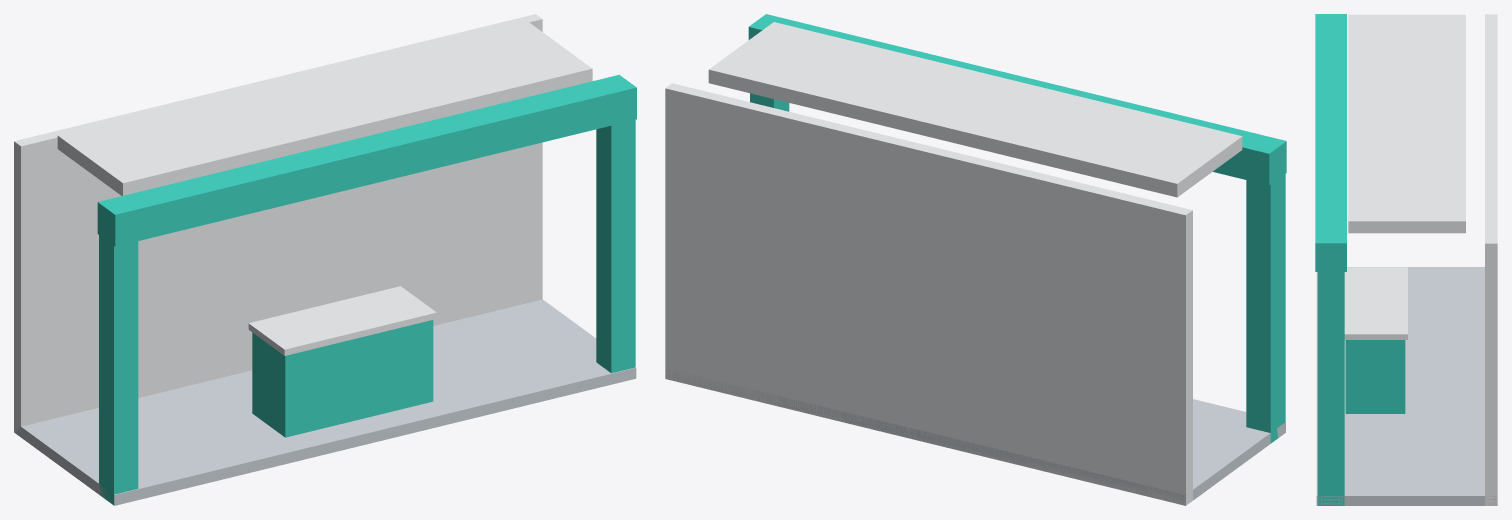
The picture shows the model from 3 angles, left to right: view 1: azimuth 30°, elevation 25°; view 2: azimuth 150°, elevation 25°; view 3: azimuth 270°, elevation 25°; orthographic projection. The views are drawn at different scales.
Parts seen in each view (by area): view 1: Exhibition Booth Concept; view 2: Exhibition Booth Concept; view 3: Exhibition Booth Concept.
Part boxes in pixels (x1,y1,x2,y2): Exhibition Booth Concept: (14,14,636,505); Exhibition Booth Concept: (665,14,1286,505); Exhibition Booth Concept: (1315,14,1497,505).
Size of the model in its own units: 6 by 3.34 by 2.01.
